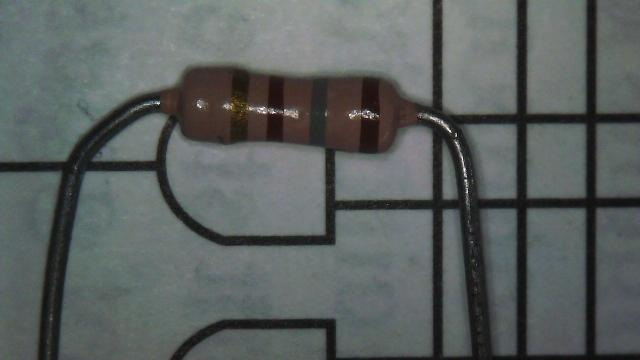brown: (361, 78, 379, 148), (266, 76, 284, 140)
gold: (230, 71, 249, 140)
grey: (310, 78, 328, 144)
resistor: (158, 48, 420, 170)
